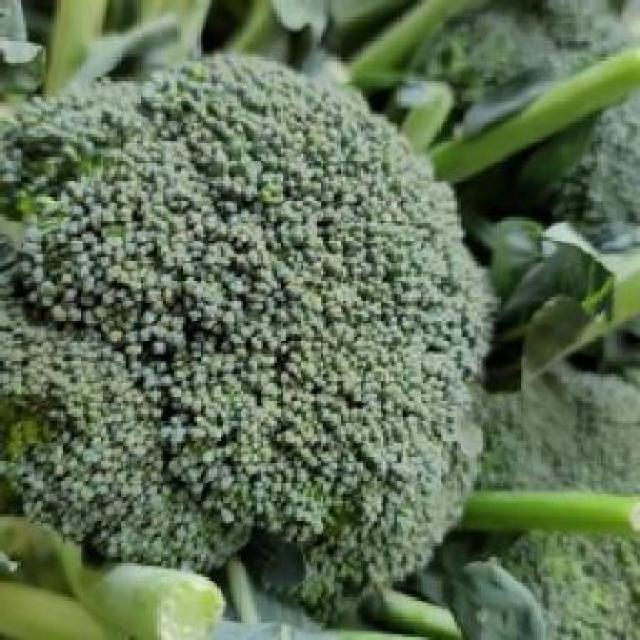broccoli: (14, 64, 468, 584)
